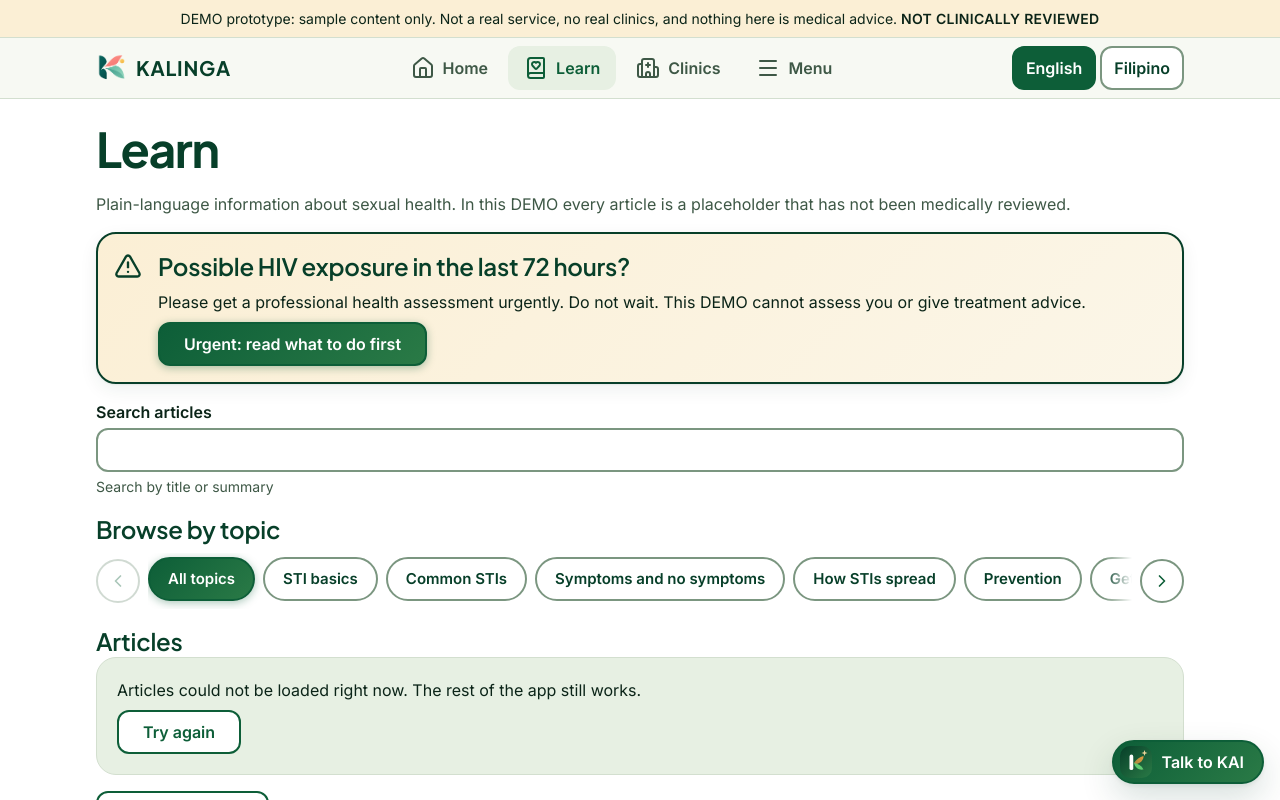
it: Learn page › shows an error state with retry
This screenshot has width=1280, height=800.
Expected: the message shows "Articles could not be loaded right now", [117,680,641,700]
Step 1. Click the button "Try again" → click(179, 732), box [117,710,241,754]
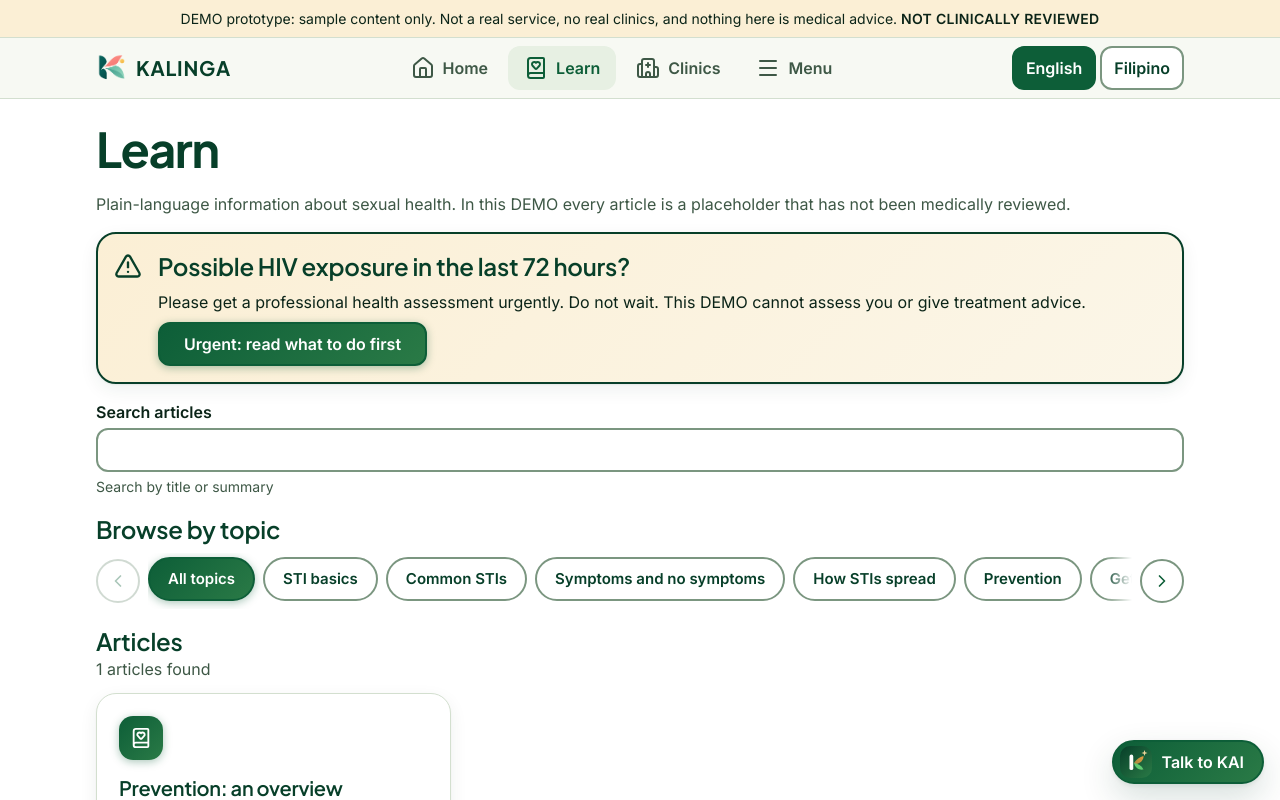
Result: the link "Prevention: an overview" is shown at [119,775,342,799]
